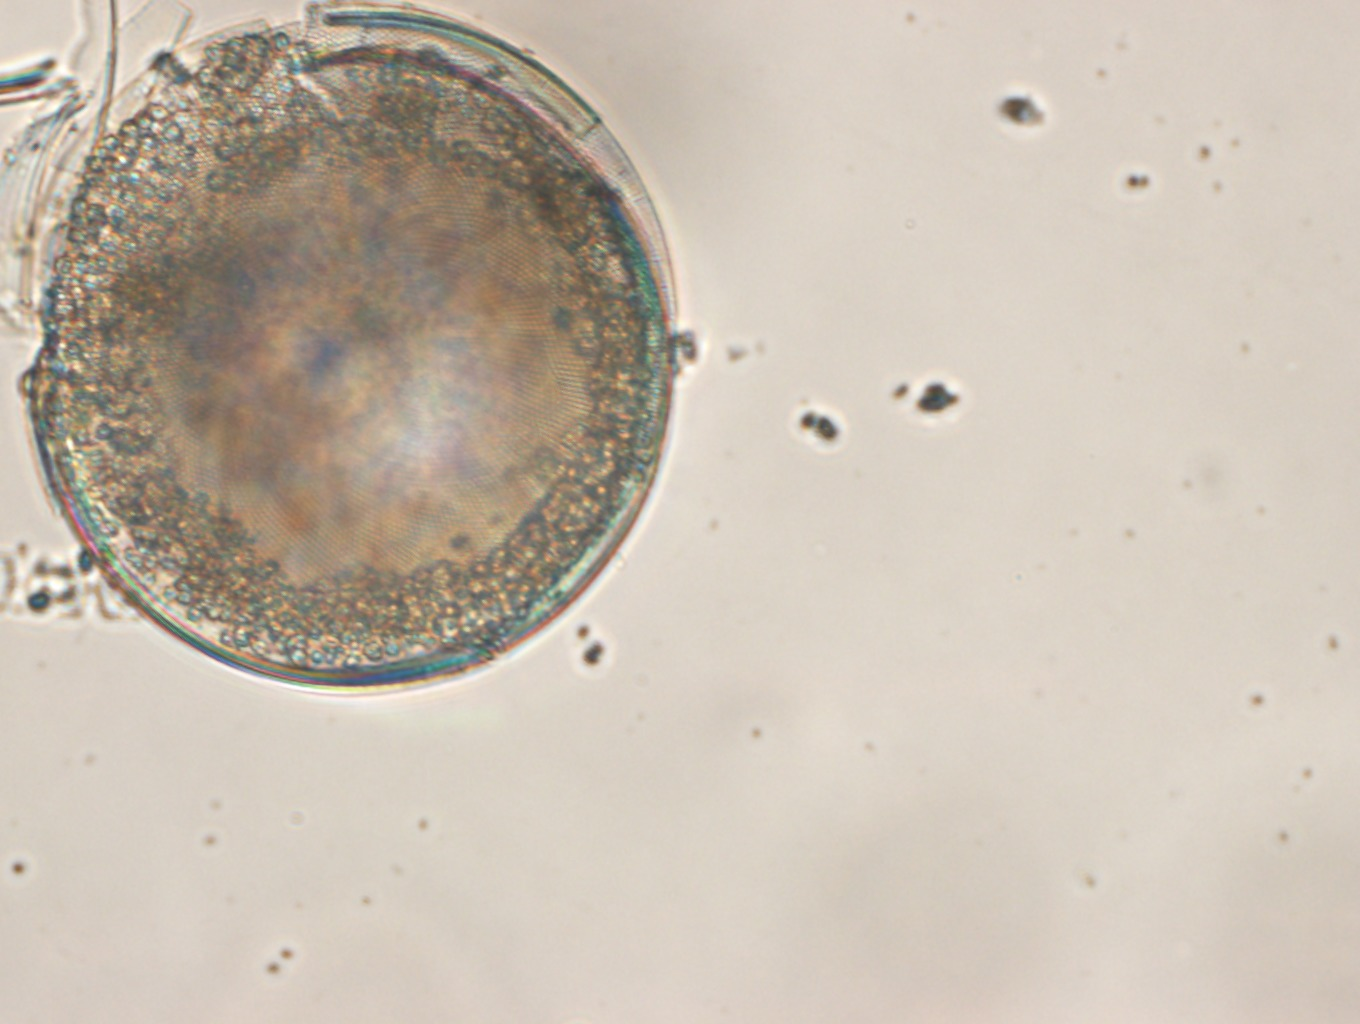coscinodiscus: (35, 10, 679, 689)
